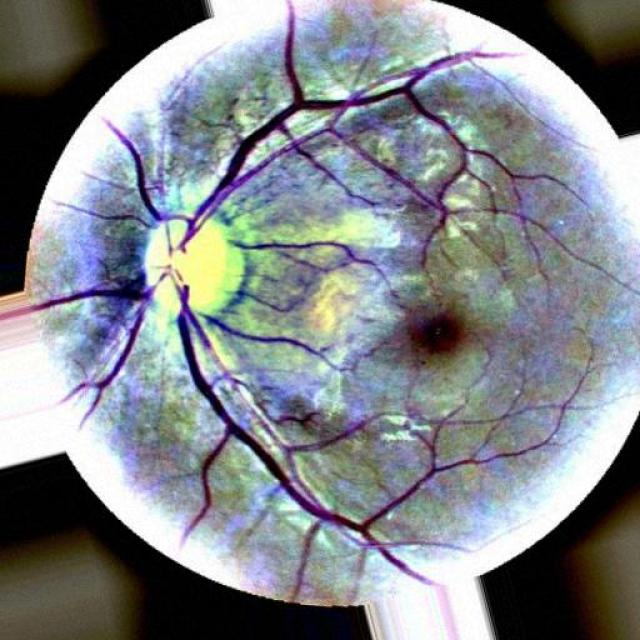Macula: (392, 299, 476, 368)
Nerves: (214, 40, 375, 202), (179, 340, 300, 500), (89, 314, 148, 398), (120, 134, 161, 205), (45, 283, 133, 310)
Optic Disk: (136, 203, 250, 333)
